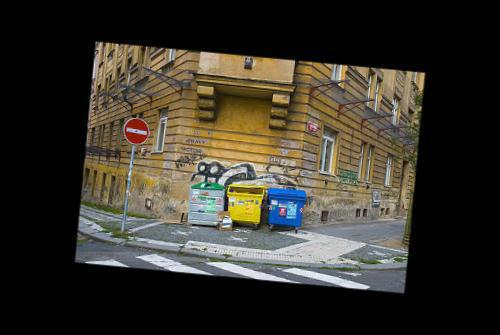Bote de Basura: (224, 183, 265, 232), (188, 178, 227, 229), (264, 191, 304, 232)
